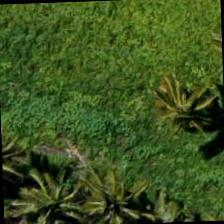Kelapa_Sawit: (139, 61, 223, 155), (2, 157, 95, 223), (57, 158, 150, 223)
